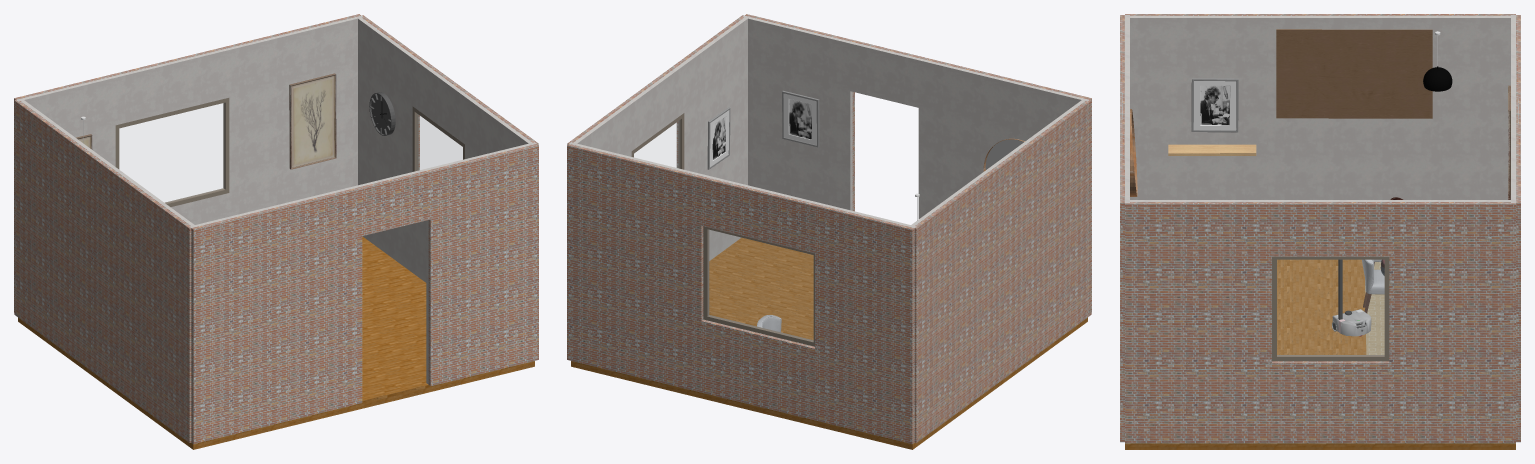
3 views of the same model, side by side, from view 1: azimuth 30°, elevation 25°; view 2: azimuth 150°, elevation 25°; view 3: azimuth 270°, elevation 25° (orthographic). The views are drawn at different scales.
Visible parts, largest first — view 1: world (×10), room_geometry_dining_room__v0, glass (×2), frame (×2); view 2: world (×11), room_geometry_dining_room__v0, glass (×2), frame (×2); view 3: world (×12), dining_room_painting_0, glass, room_geometry_dining_room__v0, frame, dining_room_rug_0, Oak_Porto.001, robot_Pantone_Cool_Gray_4_U.
Part boxes in pixels (x1,y1,x2,y2): world (×10): (14, 14, 538, 443); room_geometry_dining_room__v0: (18, 236, 534, 449); glass (×2): (119, 103, 462, 202); frame (×2): (115, 98, 464, 207); world (×11): (567, 14, 1091, 443); room_geometry_dining_room__v0: (571, 237, 1087, 449); glass (×2): (634, 121, 813, 340); frame (×2): (631, 113, 814, 346); world (×12): (1120, 14, 1520, 443); dining_room_painting_0: (1276, 29, 1432, 118); glass: (1277, 260, 1384, 355); room_geometry_dining_room__v0: (1125, 259, 1515, 449); frame: (1272, 257, 1389, 361); dining_room_rug_0: (1365, 262, 1384, 354); Oak_Porto.001: (1168, 144, 1256, 155); robot_Pantone_Cool_Gray_4_U: (1332, 309, 1371, 336).
Bounding box in the file's own units: 4.6 × 2.8 × 4.1.
Materials: 41 (16 with a texture image).
